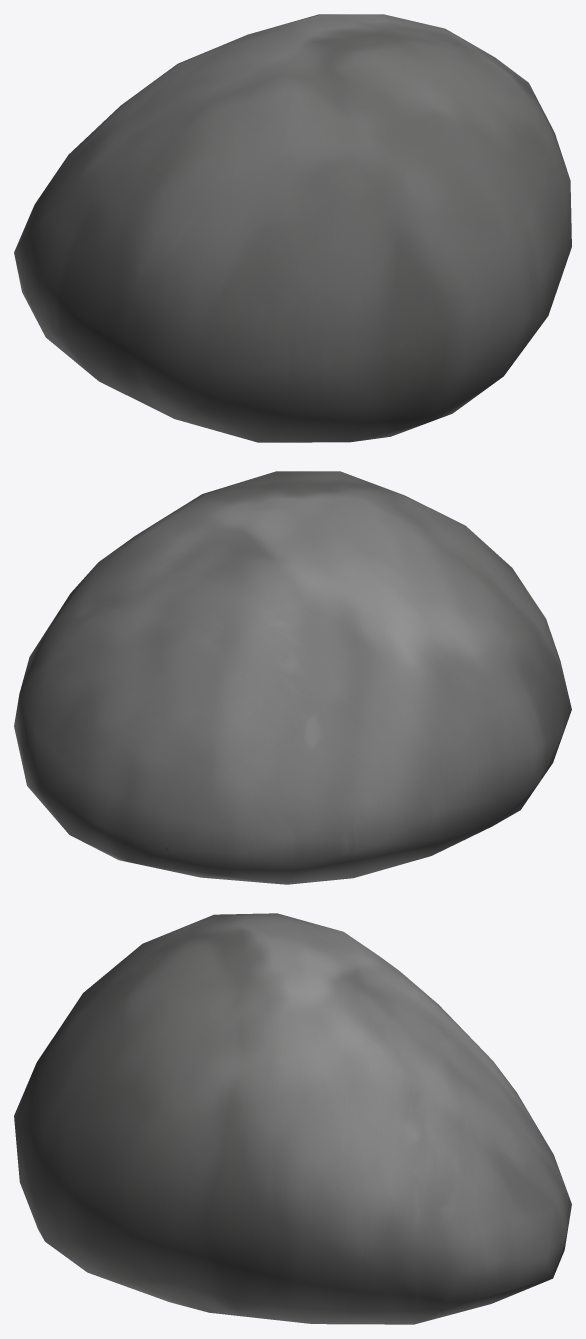
The model's file is stones.glb.
3 renders of one model, top to bottom at view 1: azimuth 30°, elevation 25°; view 2: azimuth 150°, elevation 25°; view 3: azimuth 270°, elevation 25°, orthographic. The views are drawn at different scales.
Parts seen in each view (by area): view 1: Icosphere; view 2: Icosphere; view 3: Icosphere.
Boxes of the visible parts, bbox=[...] form: Icosphere: bbox=[14, 14, 571, 442]; Icosphere: bbox=[14, 471, 571, 884]; Icosphere: bbox=[14, 913, 571, 1324].
Size of the model in its own units: 1.45 by 0.9443 by 1.43.
1 material, 1 textured.
